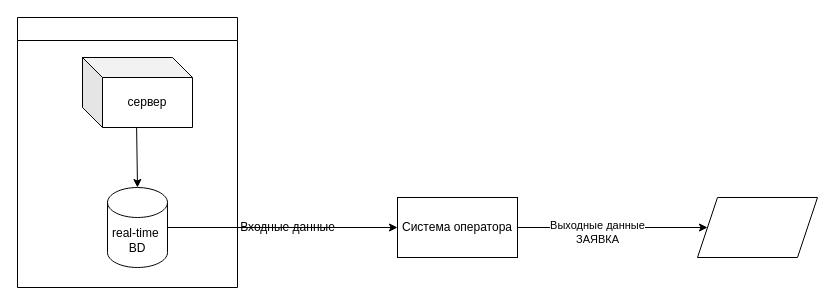
Some shapes in this 835 by 305 pixel diagram are drawn without their labels. The shapes that lost their labels are listed below. From the top down, each one's centre as x and y in pixels, then its label:
At [127,152]: "Vertical Container".
At [757,227]: "Заказ пользователя".
